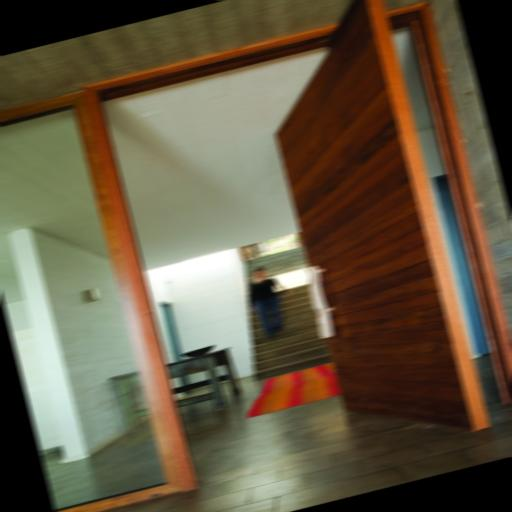Door: (241, 0, 492, 461), (12, 334, 62, 451)
Stairs: (226, 245, 334, 380)
